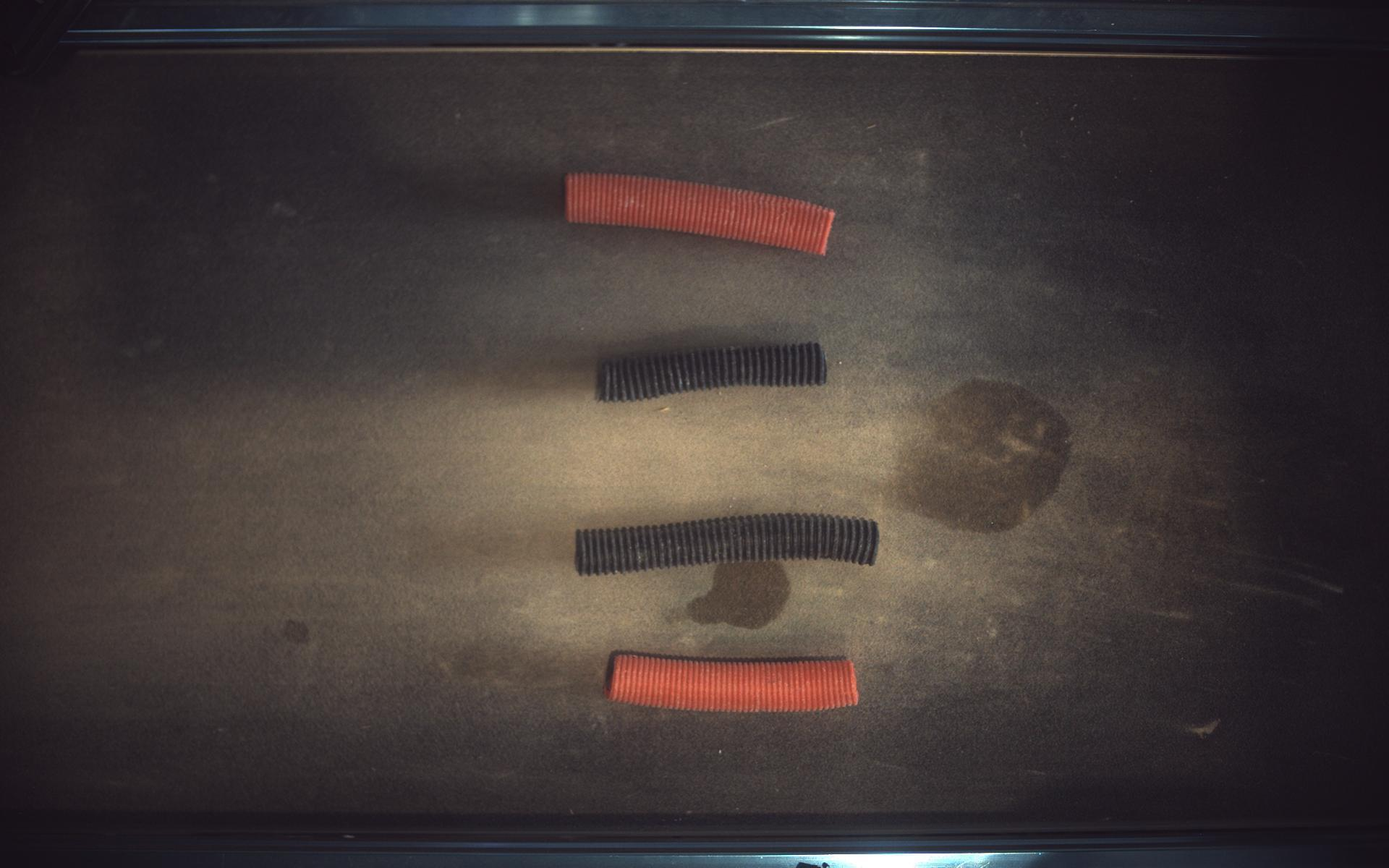pipes: (566, 171, 836, 255), (576, 514, 880, 576), (606, 655, 860, 713), (599, 342, 828, 401)
